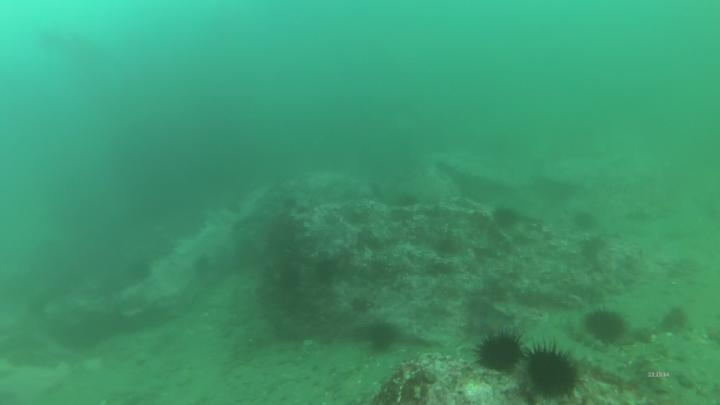echinus: (523, 344, 580, 402), (473, 331, 529, 376), (581, 304, 630, 348), (367, 320, 396, 355), (493, 205, 522, 235), (436, 238, 459, 259), (575, 212, 595, 232)
